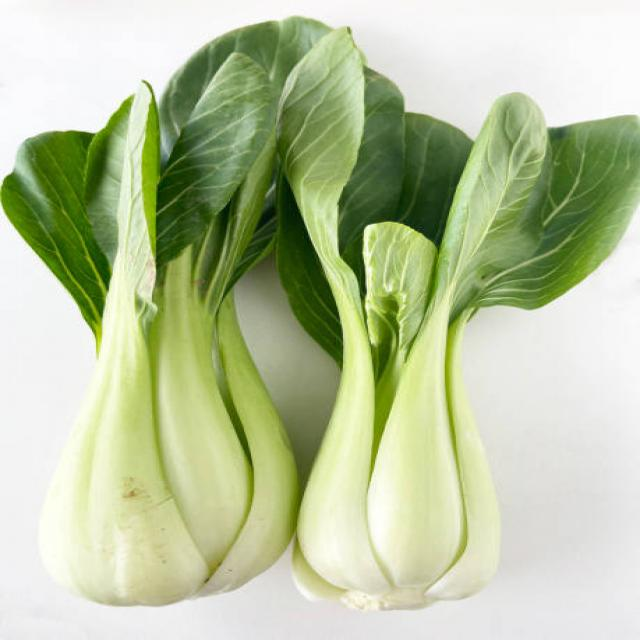Bok Choy: (289, 78, 558, 622), (31, 78, 269, 622)
